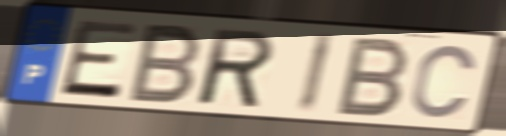B: (331, 34, 413, 119), (124, 21, 205, 106)
C: (408, 42, 481, 121)
E: (56, 18, 141, 102)
I: (294, 30, 338, 116)
R: (197, 26, 277, 111)
